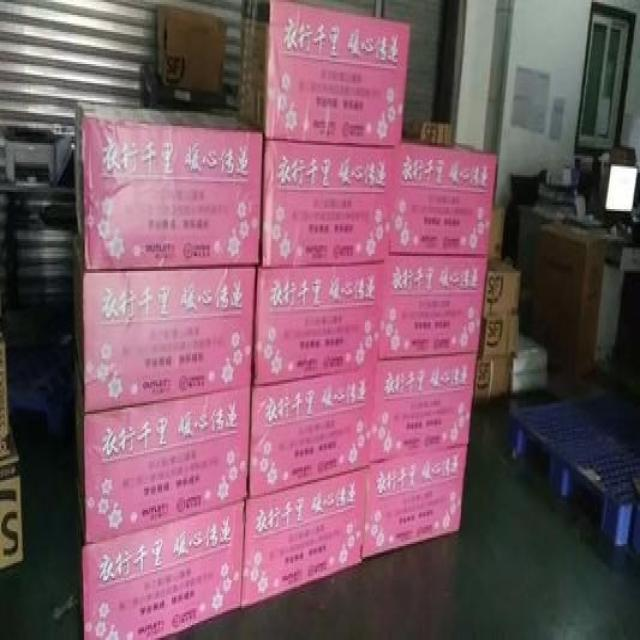Carton: (261, 0, 492, 267), (245, 354, 475, 599), (83, 267, 253, 542), (74, 105, 261, 265), (82, 501, 244, 638), (253, 265, 385, 378), (382, 258, 484, 358)
